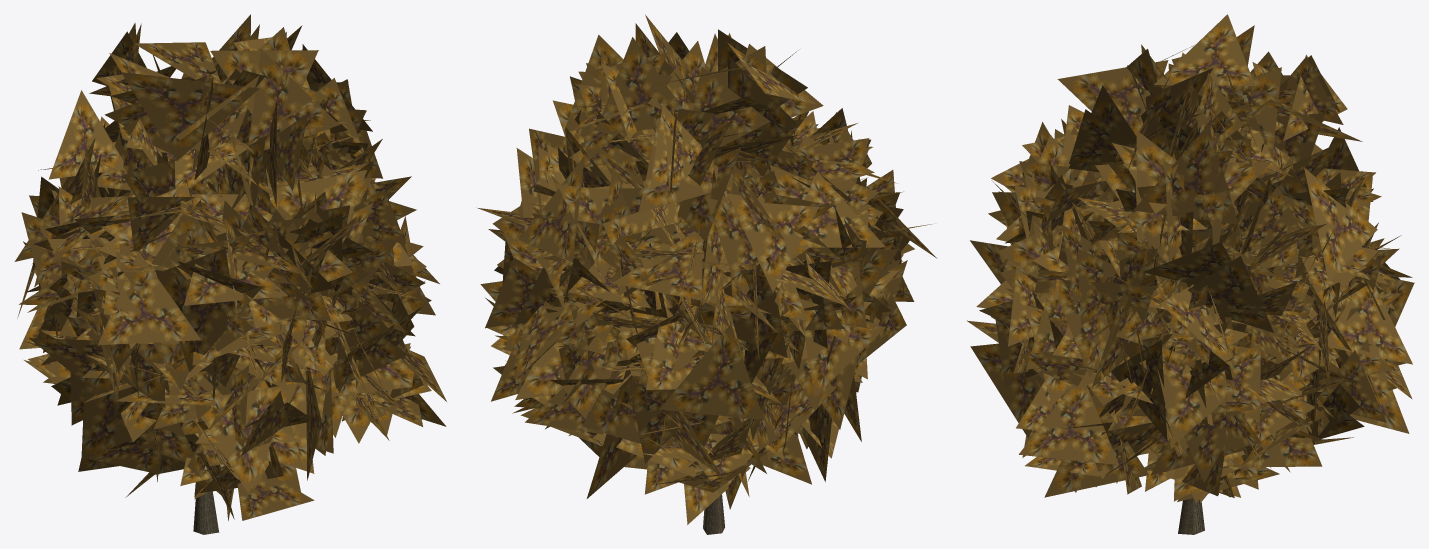
File: Juglans_Regia_Autumn_Young.glb
The picture shows the model from 3 angles, left to right: view 1: azimuth 30°, elevation 25°; view 2: azimuth 150°, elevation 25°; view 3: azimuth 270°, elevation 25°; orthographic projection.
Parts seen in each view (by area): view 1: Juglans_Regia_Autumn_Young__LOD3; view 2: Juglans_Regia_Autumn_Young__LOD3; view 3: Juglans_Regia_Autumn_Young__LOD3.
Boxes of the visible parts, bbox=[...] form: Juglans_Regia_Autumn_Young__LOD3: bbox=[14, 14, 446, 534]; Juglans_Regia_Autumn_Young__LOD3: bbox=[476, 14, 937, 534]; Juglans_Regia_Autumn_Young__LOD3: bbox=[967, 14, 1414, 534].
Bounding box in the file's own units: 5.19 × 5.88 × 4.86.
2 materials, 2 textured.
